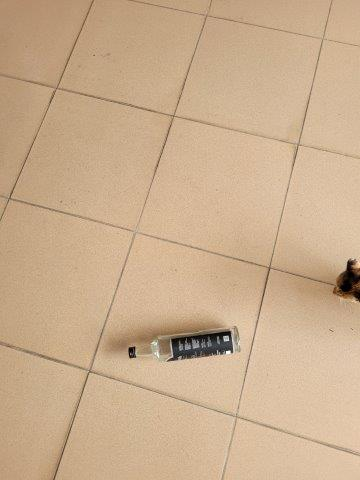botolkaca: (128, 326, 242, 359)
